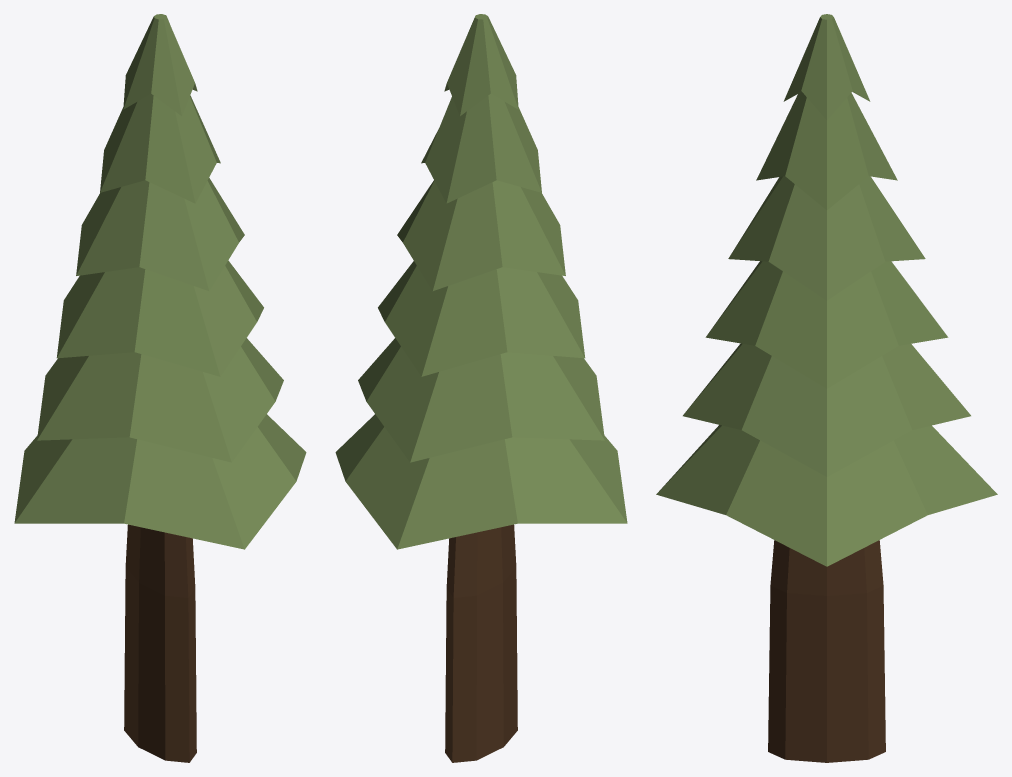
Rendered from f_long_pine_tree1.fbx.
3 views of the same model, side by side, from view 1: azimuth 30°, elevation 25°; view 2: azimuth 150°, elevation 25°; view 3: azimuth 270°, elevation 25° (orthographic).
Visible parts, largest first — view 1: pine tree; view 2: pine tree; view 3: pine tree.
Part boxes in pixels (bbox=[...]): pine tree: bbox=[14, 14, 306, 762]; pine tree: bbox=[335, 14, 627, 762]; pine tree: bbox=[656, 14, 997, 762].
Bounding box in the file's own units: 915 × 2170 × 915.
